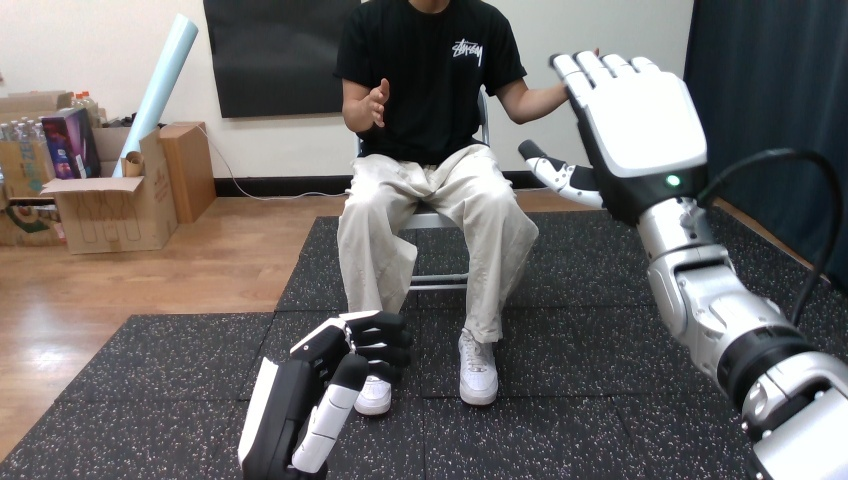left robot hand: (519, 51, 847, 478), (238, 310, 411, 478)
